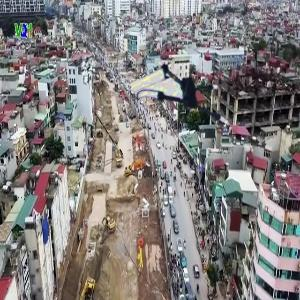drone: (143, 53, 236, 146)
